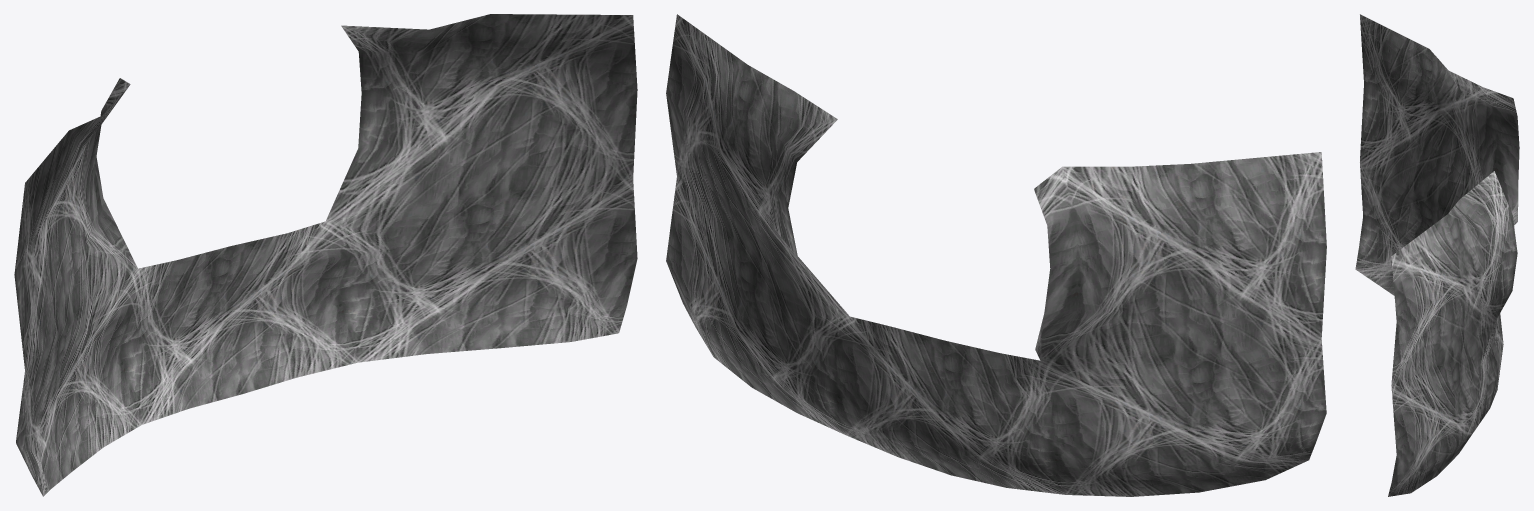
The model's file is SWORDLIGHT20_PS-AREA01_34.obj.
3 views of the same model, side by side, from view 1: azimuth 30°, elevation 25°; view 2: azimuth 150°, elevation 25°; view 3: azimuth 270°, elevation 25° (orthographic). The views are drawn at different scales.
Parts seen in each view (by area): view 1: PS-Area01_34; view 2: PS-Area01_34; view 3: PS-Area01_34.
Part boxes in pixels (x1=…): PS-Area01_34: x1=14, y1=14, x2=637, y2=496; PS-Area01_34: x1=666, y1=14, x2=1326, y2=496; PS-Area01_34: x1=1355, y1=14, x2=1519, y2=496.
Bounding box in the file's own units: 1765 × 895 × 493.
